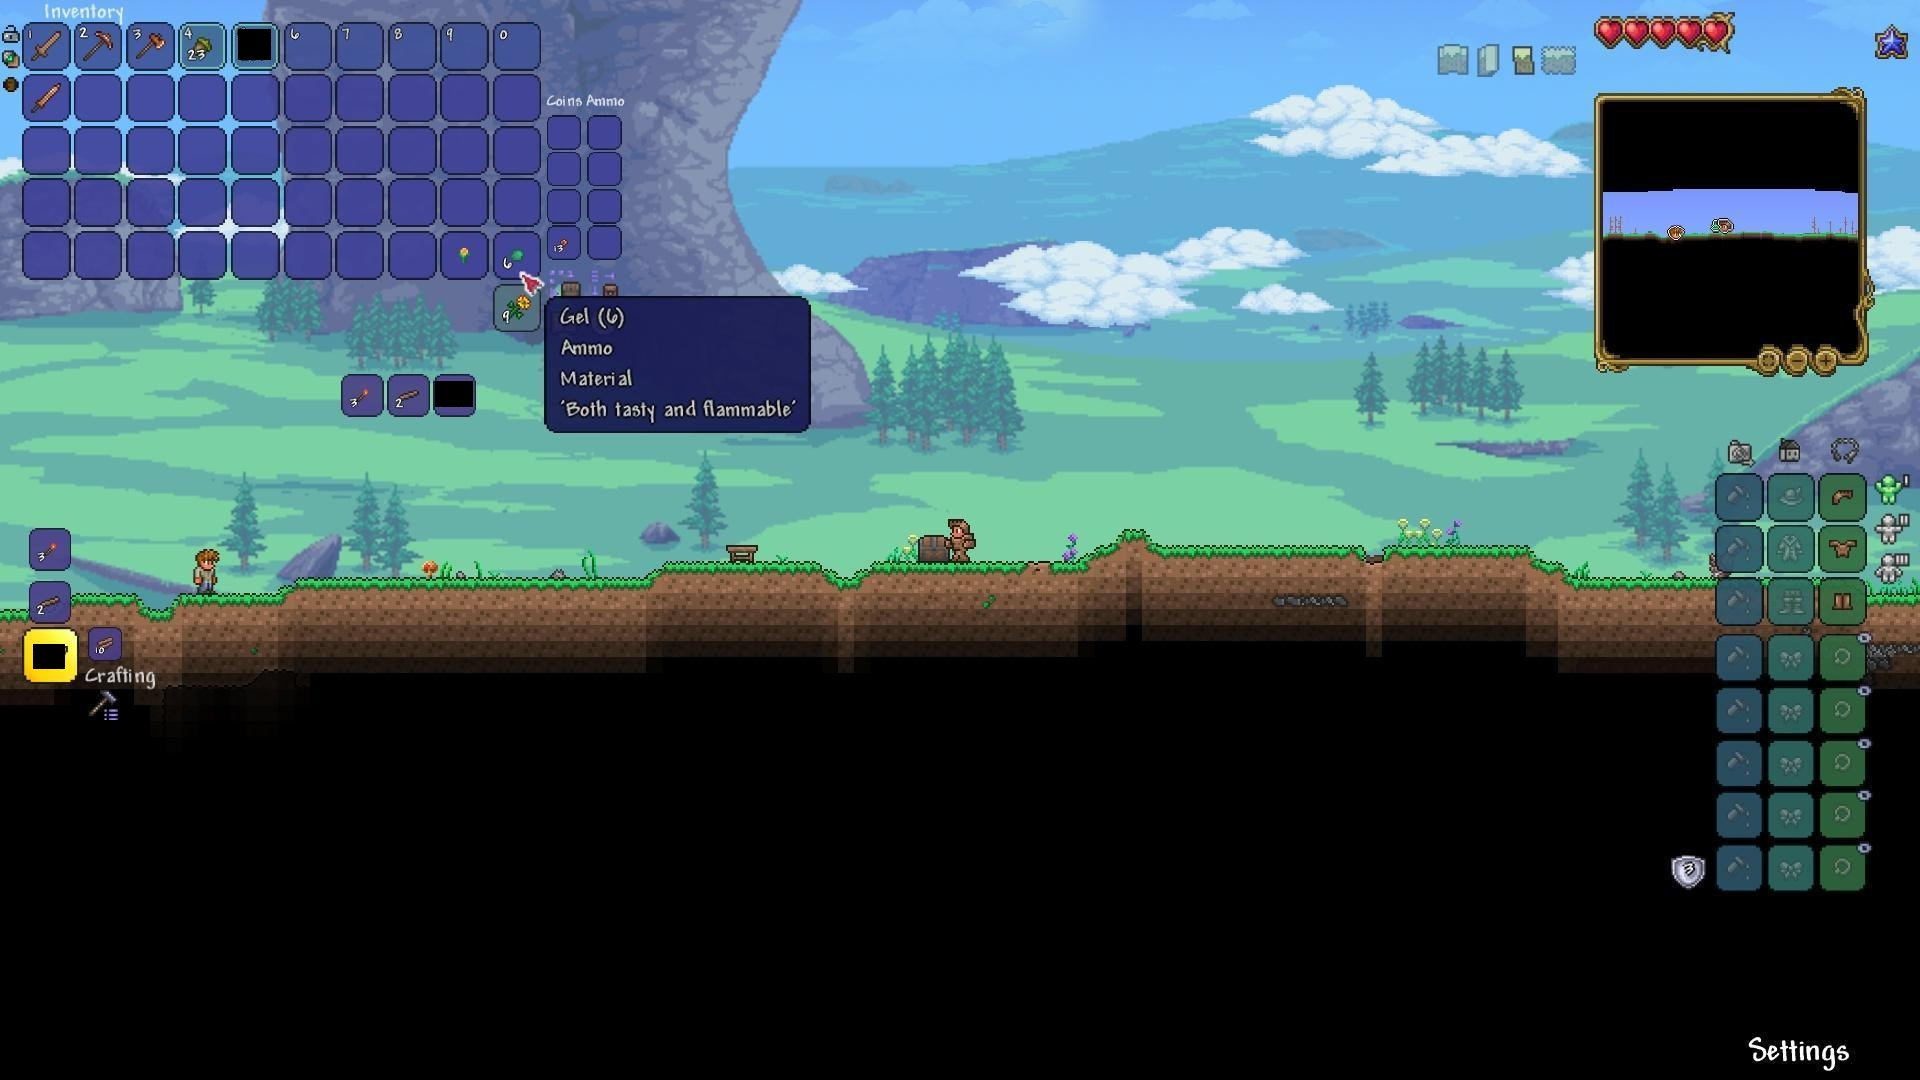breastplate: (1829, 537, 1859, 558)
helmet: (1826, 483, 1858, 510)
legs: (1830, 585, 1855, 616)
wood: (88, 629, 120, 659)
workbench: (725, 542, 761, 563)
